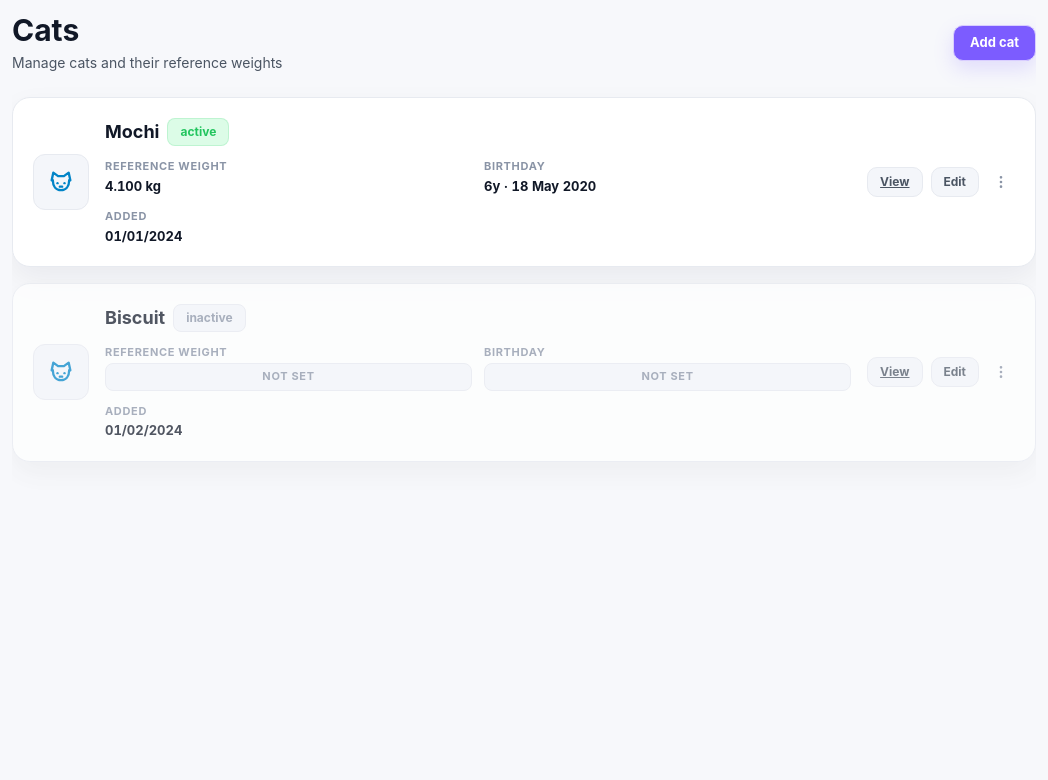
Test: Cats page › handleUpdate › shows an error toast when update fails
Step 1. Click the button "Edit" in the row of "6y · 18 May 2020" → {"x": 955, "y": 182}, box [930,167,979,197]
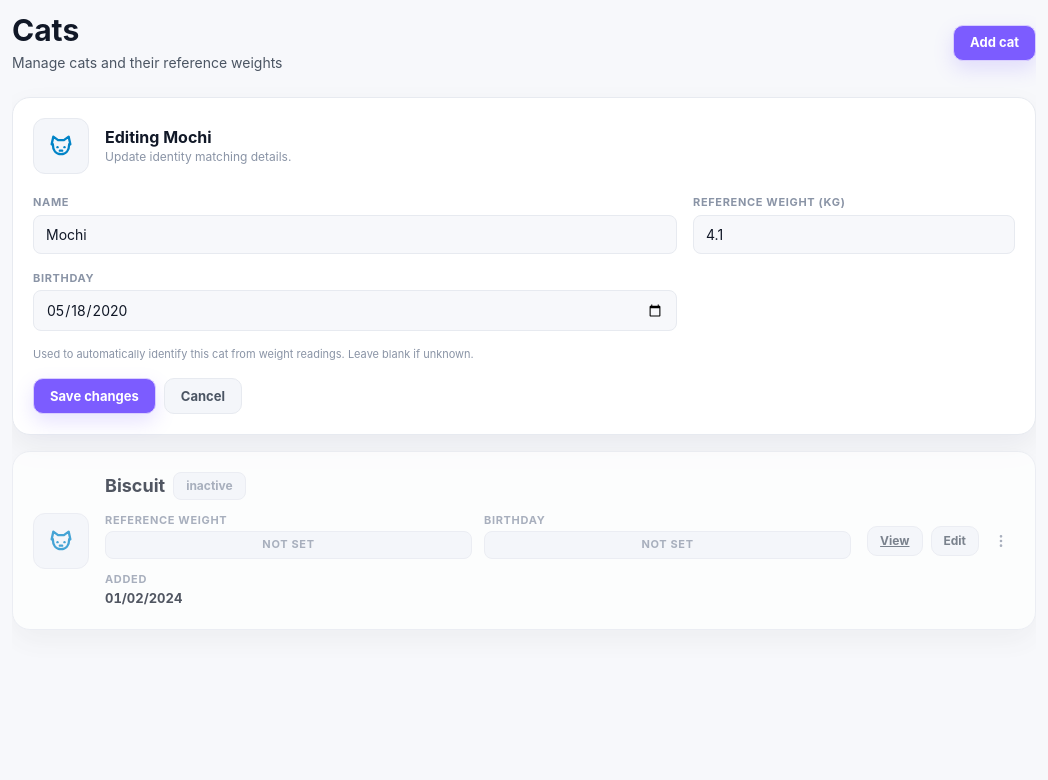
Step 2. Click the button "Save changes" → {"x": 94, "y": 396}, box [33,378,156,414]
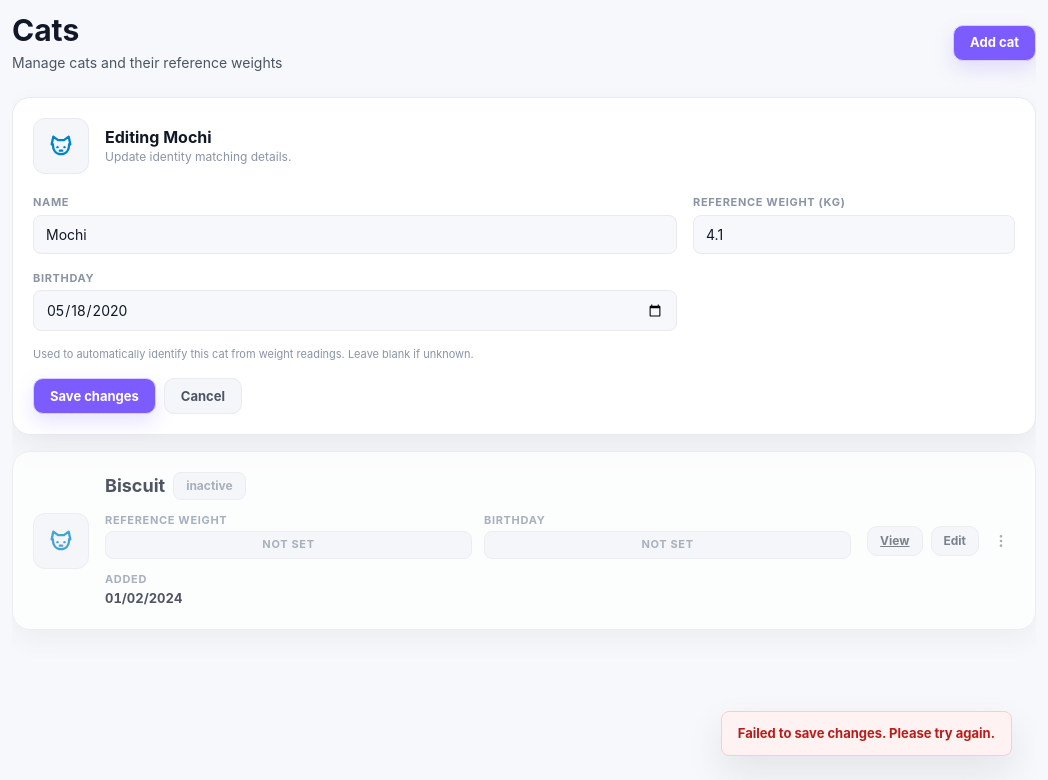
Check: the message shows "Failed to save changes", box [738,724,995,740]
